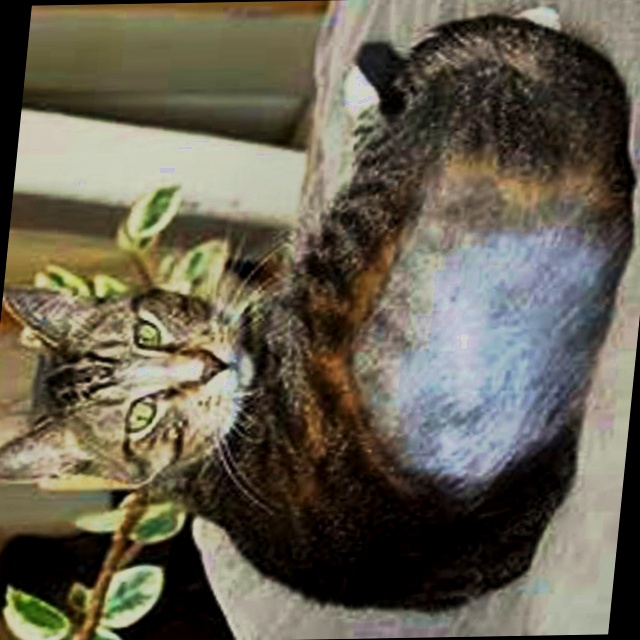hairloss: (356, 169, 610, 480)
